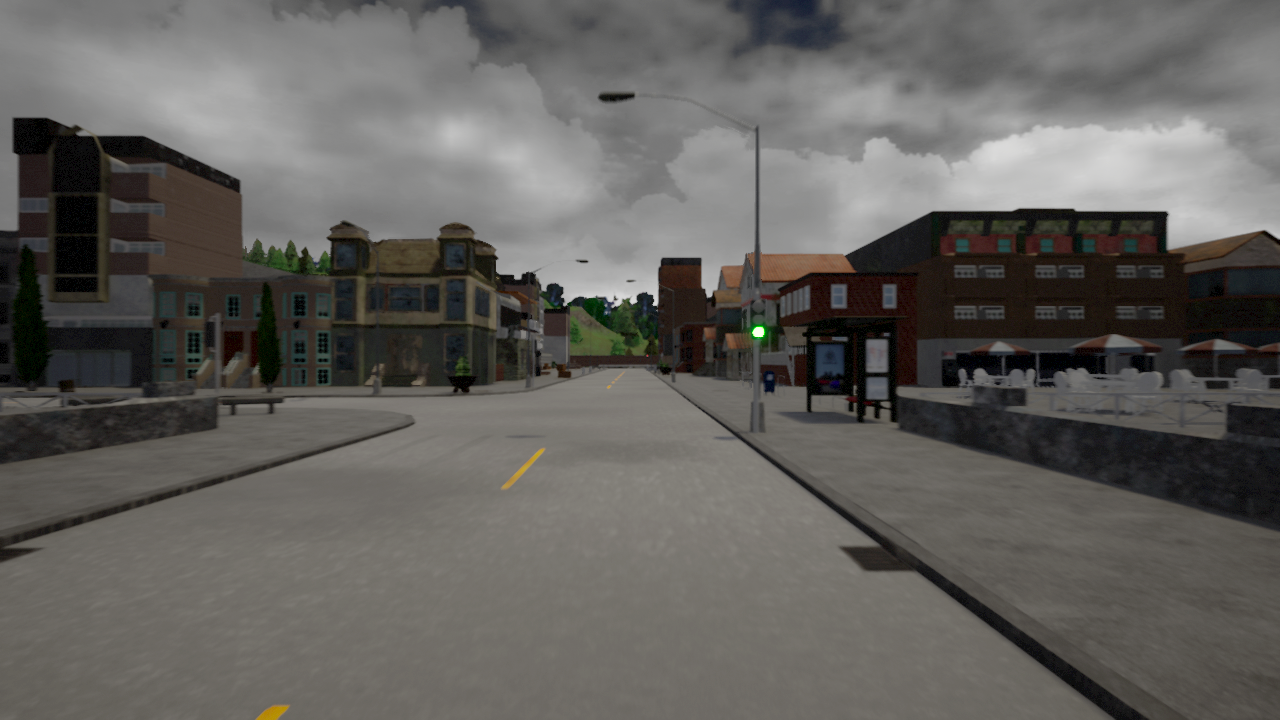green: (748, 297, 766, 339)
